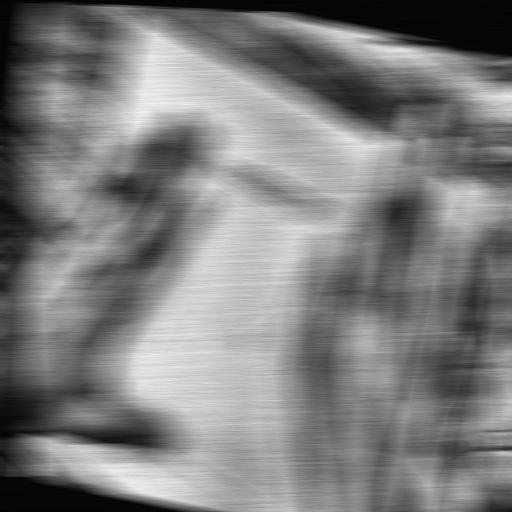bottom_left: (24, 424, 54, 449)
envelop: (89, 125, 449, 512)
top_left: (122, 6, 144, 17)
top_right: (469, 183, 493, 199)
